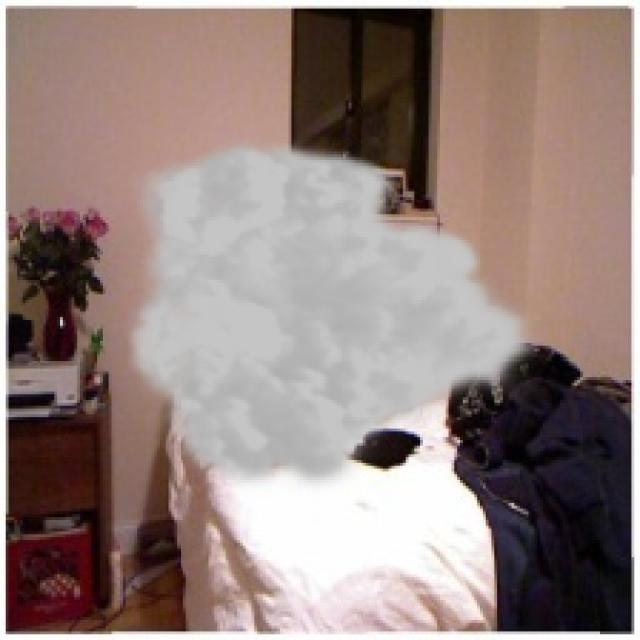smoke: (123, 134, 543, 497)
